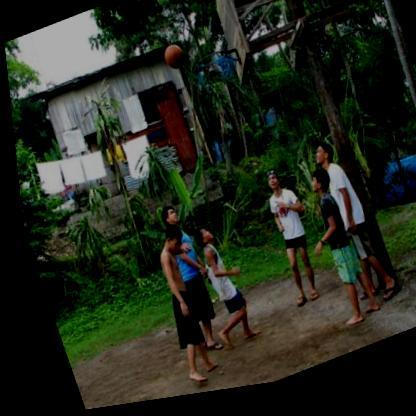basketball: (159, 45, 186, 78)
rim: (193, 53, 229, 80)
